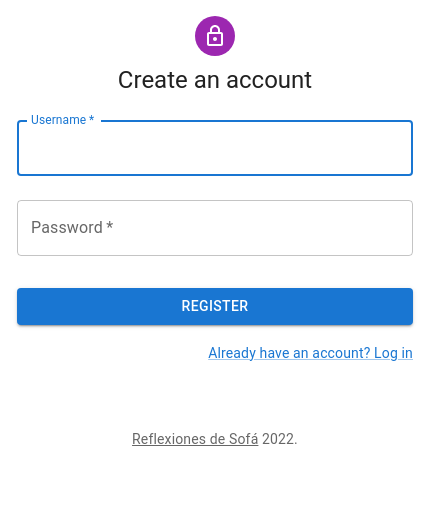
Test: Display error when register button is clicked with a password of less than 8 characters.
Type "1234567" into the password field labelled "Password *" at [215, 228], box [17,200,413,256]
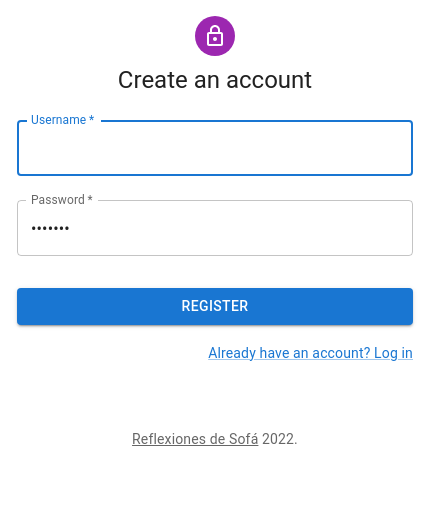
Click the button with test id "register-button" at [215, 306], box [17,288,413,324]
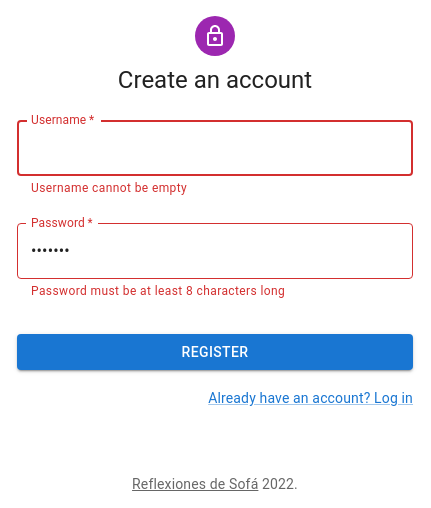
Now the text "Password must be at least 8 characters long" is shown, box [31,284,285,298]
